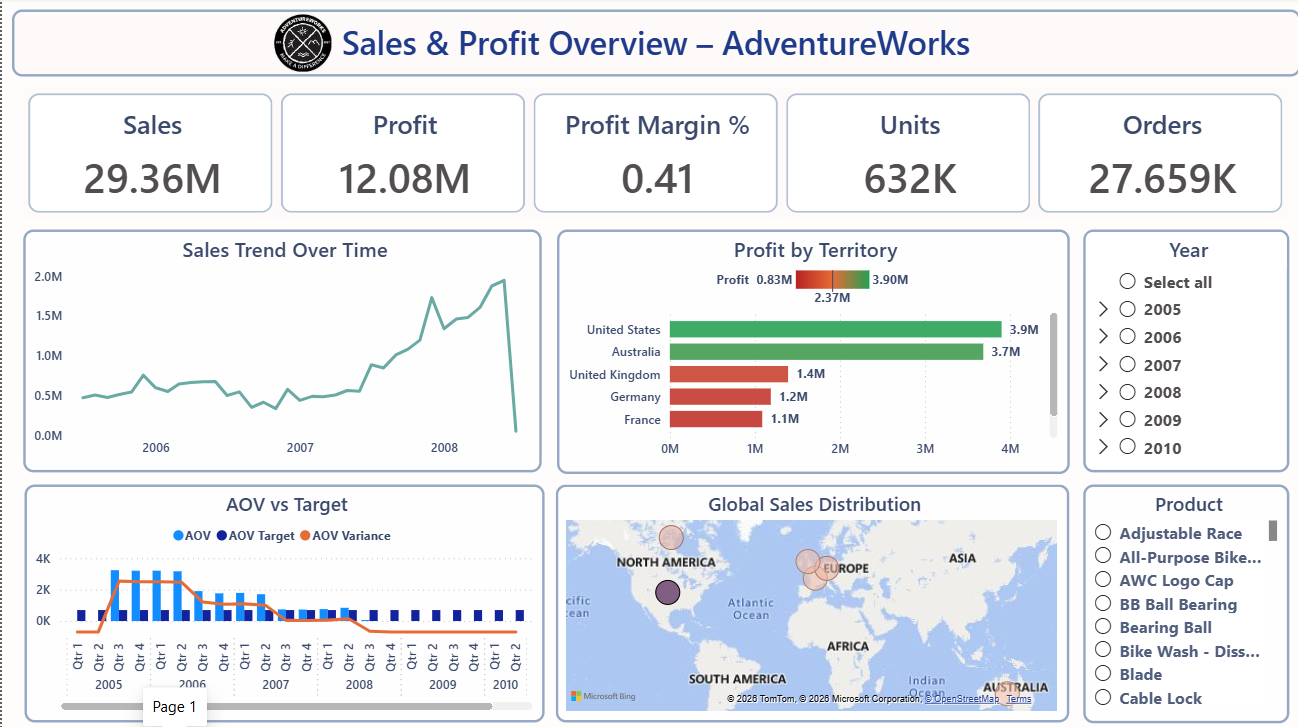

The dashboard page shown, as its layout file describes it:
{"tool":"powerbi","page":{"name":"Page 1","canvas":[1280,720],"ordinal":0},"visuals":[{"type":"textbox","box":[9.6,12.3,1261.1,65.9],"z":0},{"type":"image","box":[249.7,12.3,89.2,65.9],"z":1000},{"type":"cardVisual","fields":{"Data":["Measure Table.Sales","Measure Table.Profit","Measure Table.Profit Margin %","Measure Table.Units","Measure Table.Orders"]},"box":[21.2,89.4,1237.9,127.3],"z":2000},{"type":"lineChart","title":"Sales Trend Over Time","fields":{"Y":["Measure Table.Sales"],"Category":["DimDate.MonthYear.Variation.Date Hierarchy.Year","DimDate.MonthYear.Variation.Date Hierarchy.Quarter","DimDate.MonthYear.Variation.Date Hierarchy.Month"]},"box":[21.2,227.3,507.6,237.9],"z":3000},{"type":"listSlicer","fields":{"Values":["DimDate.FullDateAlternateKey.Variation.Date Hierarchy.Year","DimDate.FullDateAlternateKey.Variation.Date Hierarchy.Quarter","DimDate.FullDateAlternateKey.Variation.Date Hierarchy.Month"]},"box":[1057.6,227.3,201.5,237.9],"z":4000},{"type":"clusteredBarChart","title":"Profit by Territory","fields":{"Y":["Measure Table.Profit"],"Category":["DimSalesTerritory.SalesTerritoryCountry"]},"box":[542.4,227.3,501.5,239.4],"z":5000},{"type":"lineClusteredColumnComboChart","title":"AOV vs Target","fields":{"Y":["Measure Table.AOV","Measure Table.AOV Target"],"Category":["DimDate.FullDateAlternateKey.Variation.Date Hierarchy.Year","DimDate.FullDateAlternateKey.Variation.Date Hierarchy.Quarter"],"Y2":["Measure Table.AOV Variance"]},"box":[21.8,476.7,508.6,232.5],"z":6000},{"type":"listSlicer","title":"Product","fields":{"Values":["DimProduct.EnglishProductName"]},"box":[1058,476.7,202,234],"z":7000},{"type":"map","title":"Global Sales Distribution","fields":{"Category":["DimGeography.EnglishCountryRegionName"],"Size":["Measure Table.Sales"]},"box":[542,477,502,233],"z":8000}]}

Visuals, with their boxes on the page's 1280x720 design canvas (x1, y1, x2, y2). These are canvas units, not pixel positions in the 1298x727 screenshot, which may show the page scaled, cropped or inside an application window:
textbox: box=[10, 12, 1271, 78]
image: box=[250, 12, 339, 78]
cardVisual - Measure Table.Sales x Measure Table.Profit: box=[21, 89, 1259, 217]
"Sales Trend Over Time" lineChart: box=[21, 227, 529, 465]
listSlicer - DimDate.FullDateAlternateKey.Variation.Date Hierarchy.Year x DimDate.FullDateAlternateKey.Variation.Date Hierarchy.Quarter: box=[1058, 227, 1259, 465]
"Profit by Territory" clusteredBarChart: box=[542, 227, 1044, 467]
"AOV vs Target" lineClusteredColumnComboChart: box=[22, 477, 530, 709]
"Product" listSlicer: box=[1058, 477, 1260, 711]
"Global Sales Distribution" map: box=[542, 477, 1044, 710]
